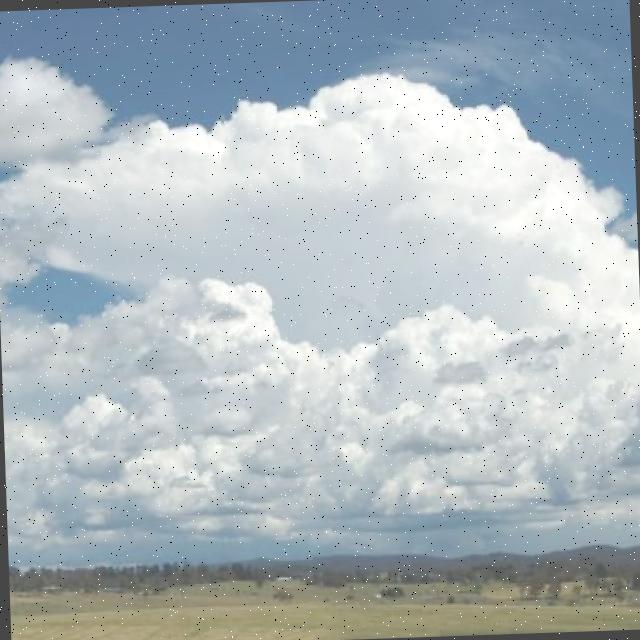Cu: (1, 46, 640, 484)
